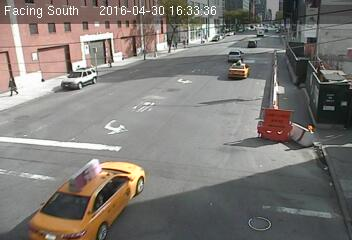neg: (137, 160, 184, 223), (24, 88, 59, 134), (252, 156, 286, 201), (277, 46, 310, 90), (77, 141, 108, 183), (309, 92, 338, 130), (25, 2, 47, 32), (125, 50, 147, 79), (66, 4, 85, 30), (88, 61, 105, 84), (130, 2, 146, 24), (151, 49, 166, 69), (170, 11, 183, 29), (248, 14, 261, 31), (203, 15, 215, 32)
pos: (1, 73, 22, 102), (178, 32, 192, 51), (171, 41, 180, 52)
